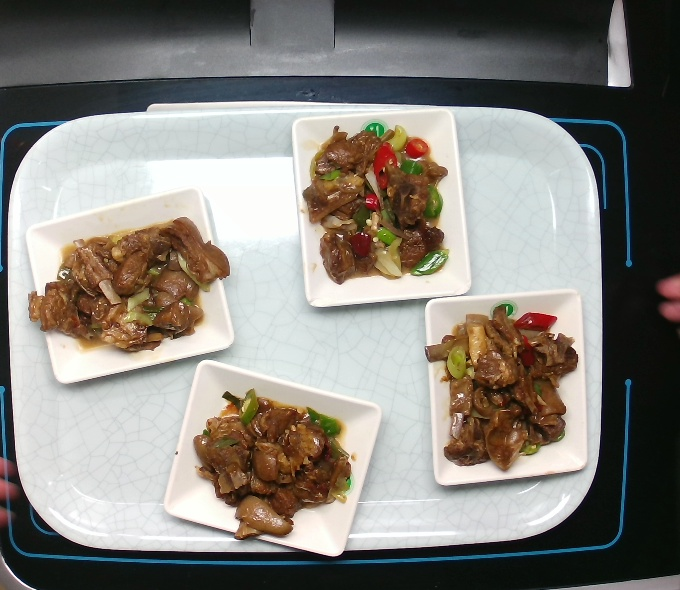wcq-YangRou: (24, 212, 234, 356), (419, 302, 582, 475), (190, 384, 360, 543), (298, 120, 457, 287)
